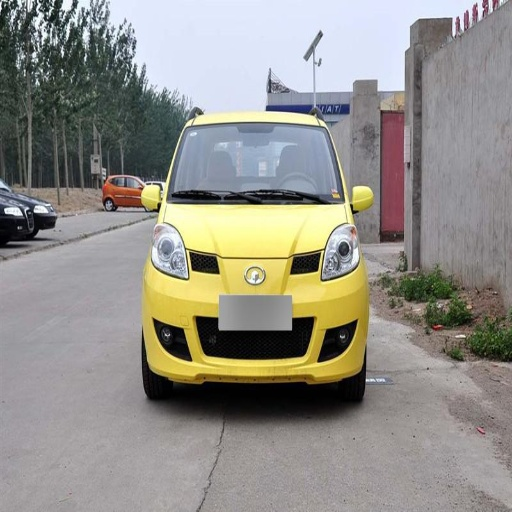front_bumper: (149, 250, 365, 382)
front_left_light: (320, 226, 360, 280)
front_right_door: (2, 198, 40, 357)
front_right_light: (152, 225, 191, 278)
hood: (164, 203, 344, 257)
